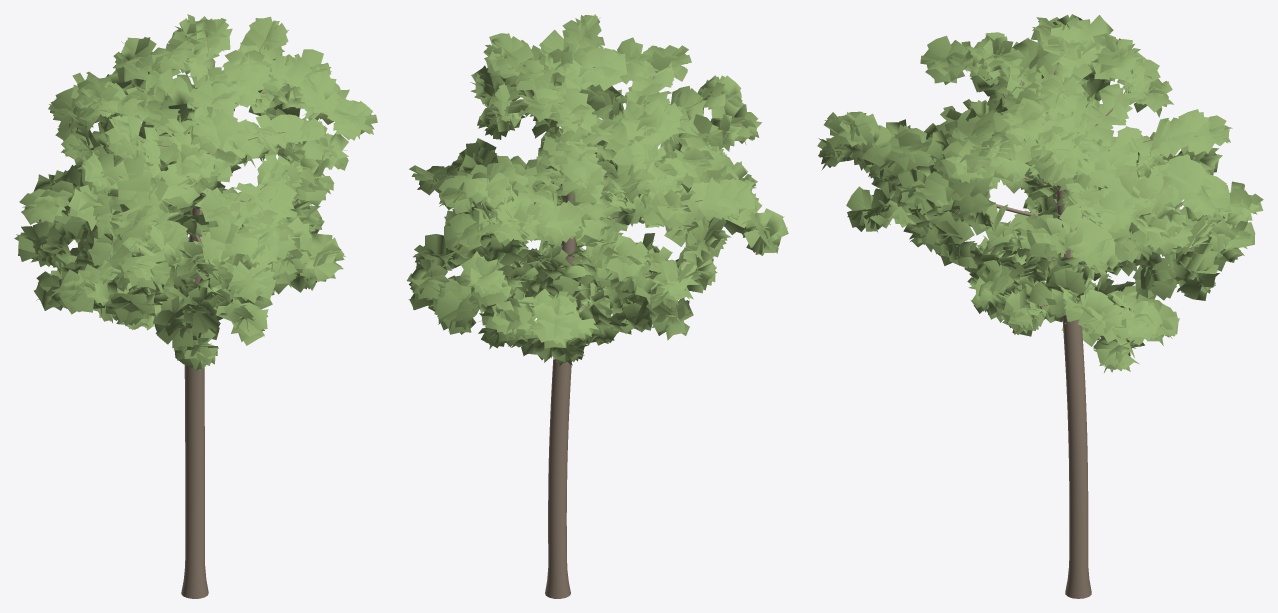
The model's file is Pine_2_lod0.glb.
3 renders of one model, left to right at view 1: azimuth 30°, elevation 25°; view 2: azimuth 150°, elevation 25°; view 3: azimuth 270°, elevation 25°, orthographic. The views are drawn at different scales.
Visible parts, largest first — view 1: Pine_2_lod0; view 2: Pine_2_lod0; view 3: Pine_2_lod0.
Boxes of the visible parts, x1,y1,x2,y2 form: Pine_2_lod0: [14, 14, 377, 598]; Pine_2_lod0: [407, 14, 788, 598]; Pine_2_lod0: [817, 14, 1263, 598].
Size of the model in its own units: 11.75 by 19.4 by 13.83.
